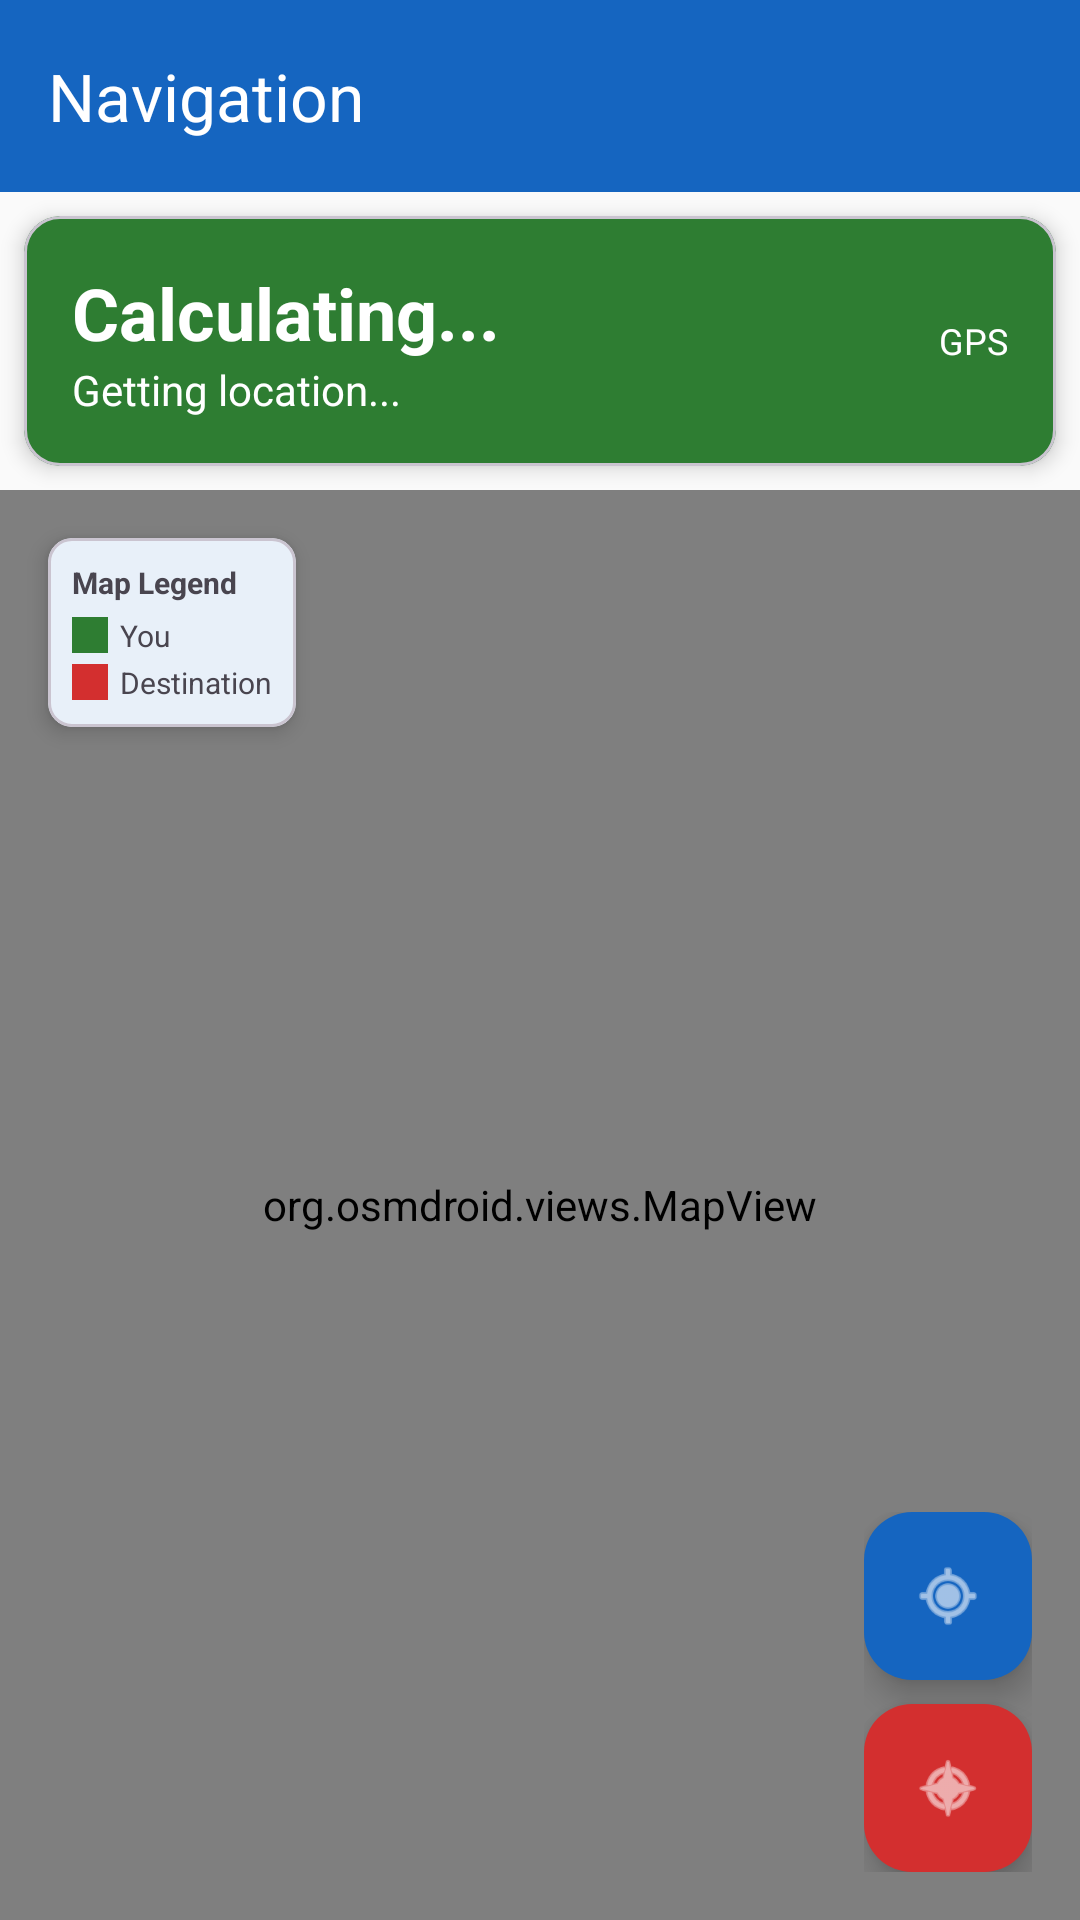

Icons on this 1080w x 1920h Android screen, each with the point to tap as (x,y):
My Location: (948,1596)
Show Destination: (948,1788)
